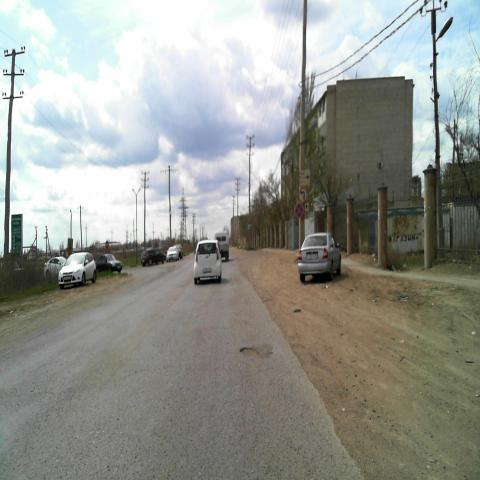3_18_2: (299, 188, 307, 203)
